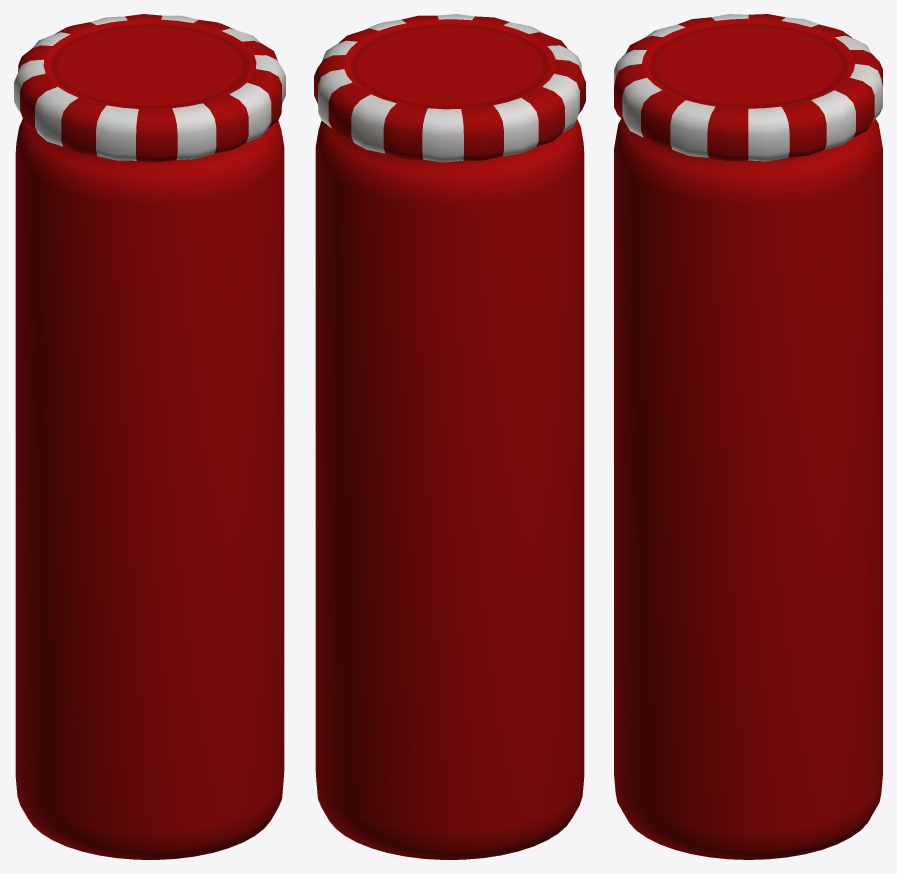
Rendered from kav3.glb.
3 renders of one model, left to right at view 1: azimuth 30°, elevation 25°; view 2: azimuth 150°, elevation 25°; view 3: azimuth 270°, elevation 25°, orthographic.
Parts seen in each view (by area): view 1: kav3; view 2: kav3; view 3: kav3.
Boxes of the visible parts, bbox=[...] form: kav3: bbox=[14, 14, 285, 859]; kav3: bbox=[314, 14, 585, 859]; kav3: bbox=[614, 14, 882, 859].
Size of the model in its own units: 1.51 by 4.63 by 1.51.
